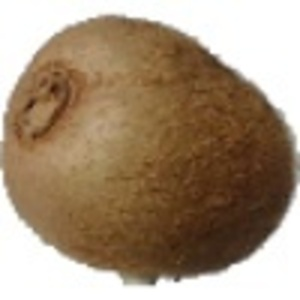kiwi: (1, 1, 300, 288)
